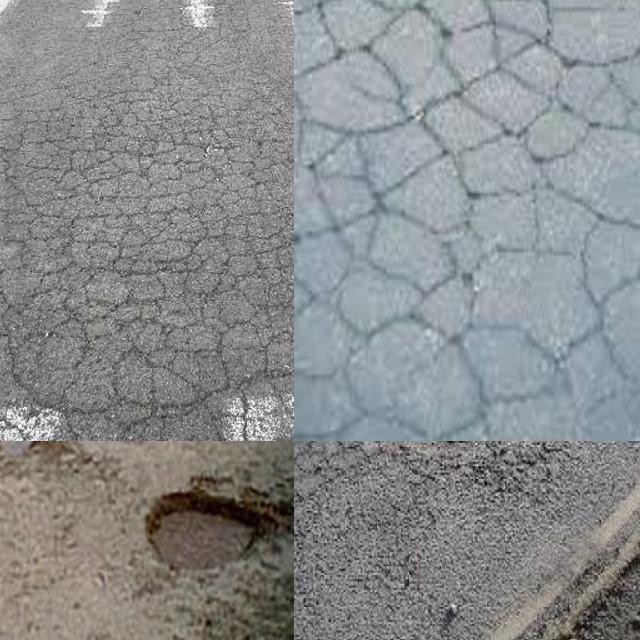Lubang: (148, 486, 268, 569), (0, 441, 49, 457)
Retak Buaya: (294, 0, 640, 441), (0, 23, 294, 441)
